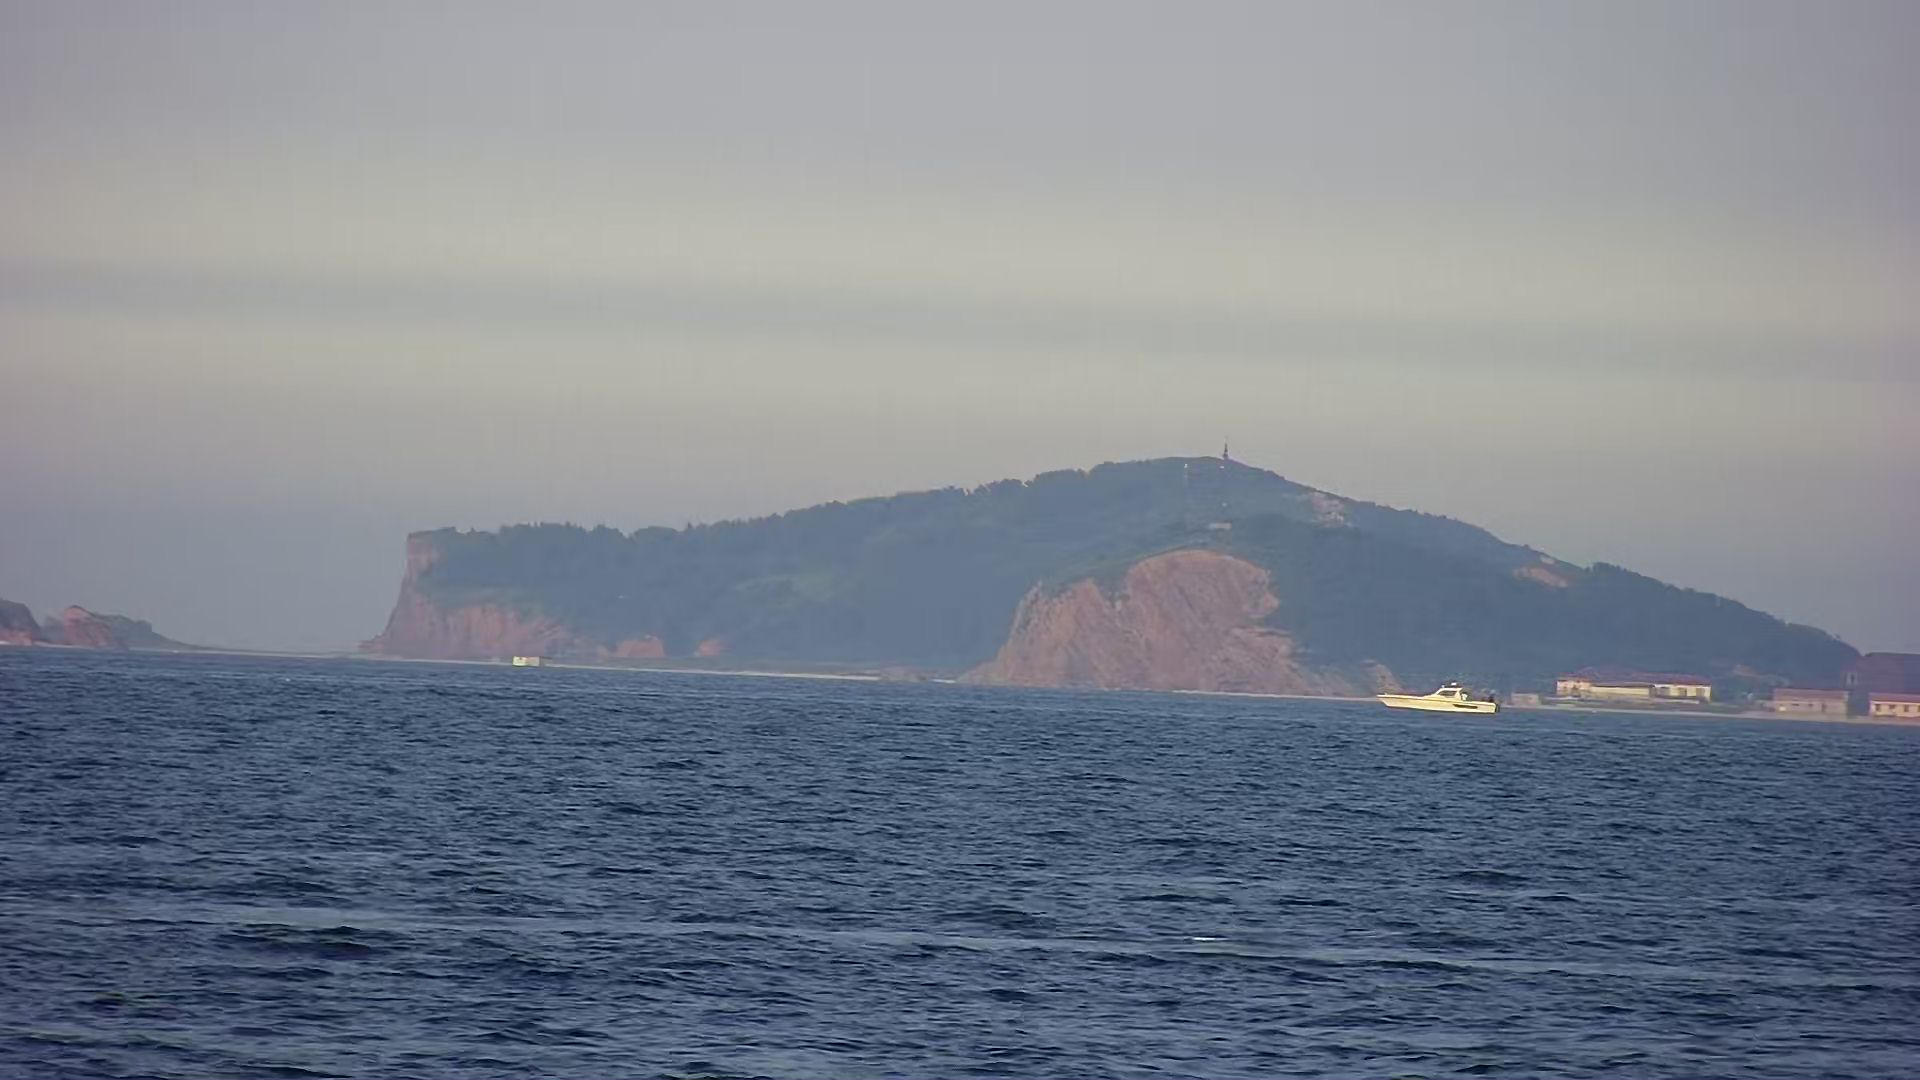boat: (1374, 671, 1507, 711)
rock: (1, 593, 195, 655)
